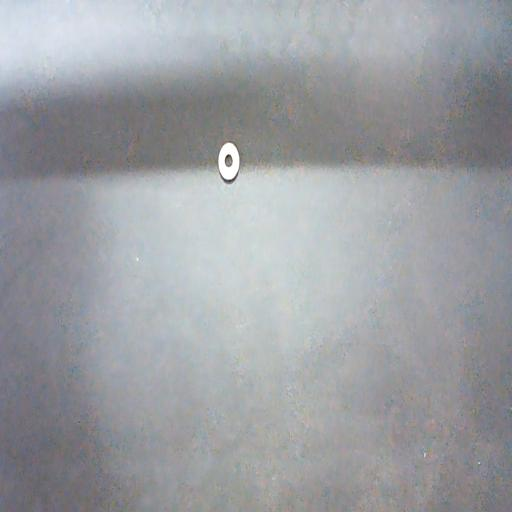washer: (218, 142, 240, 182)
